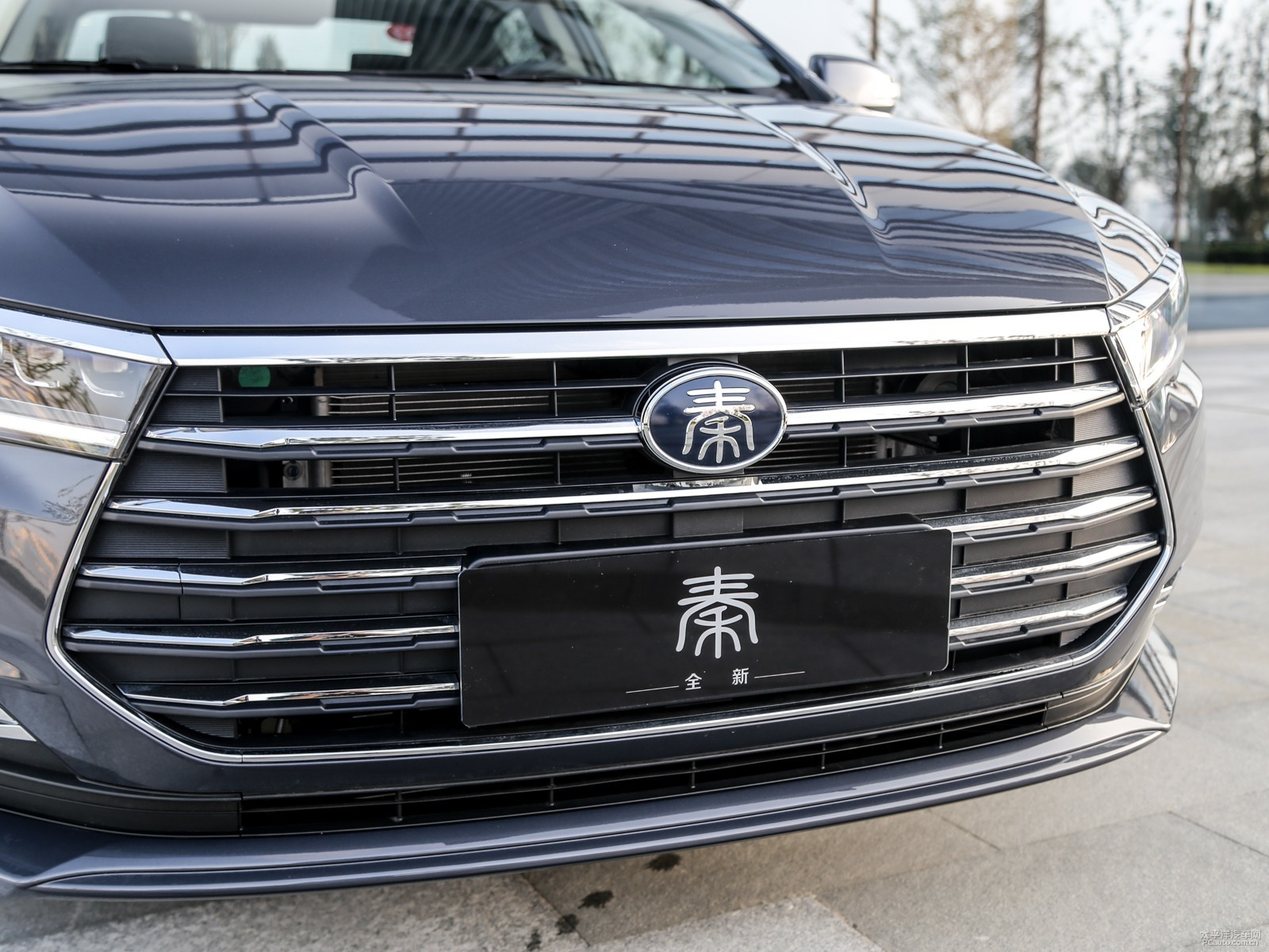BYD Qin: (643, 369, 787, 473)
